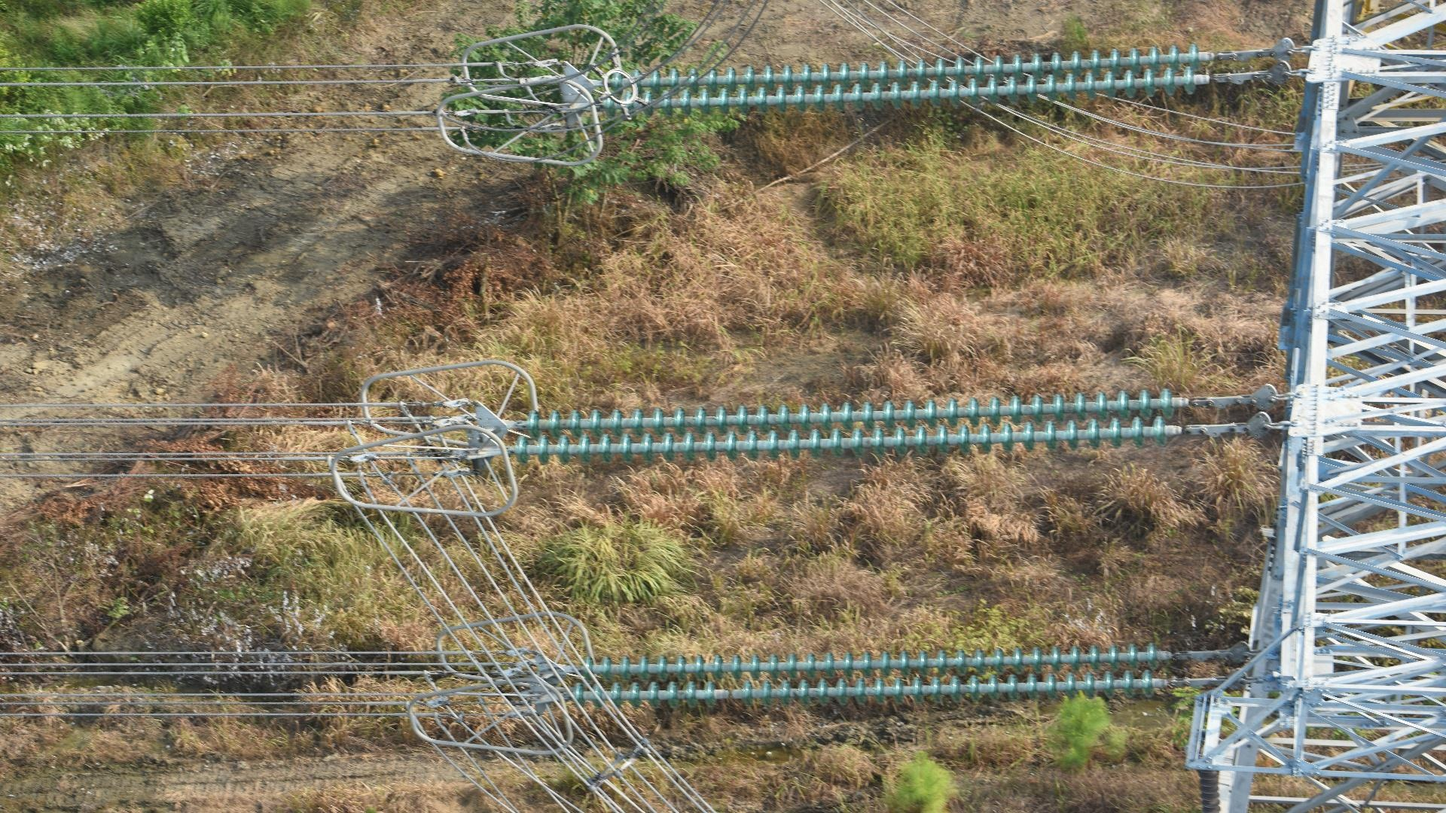insulator: (508, 382, 1180, 470), (597, 36, 1210, 122), (567, 637, 1164, 714)
